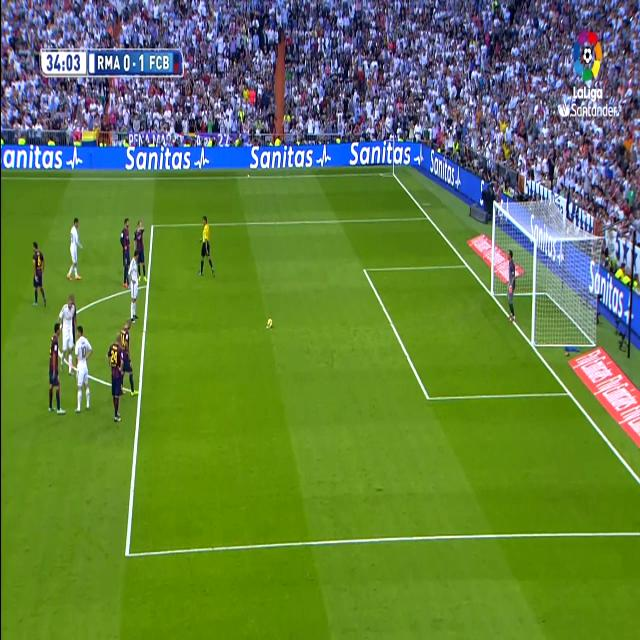bigarea_bottom_inner: (422, 381, 434, 411)
bigarea_top_outter: (424, 210, 432, 223)
corner: (388, 168, 396, 179)
smallarea_bottom_outter: (564, 380, 574, 404)
smallarea_top_outter: (462, 255, 471, 274)
